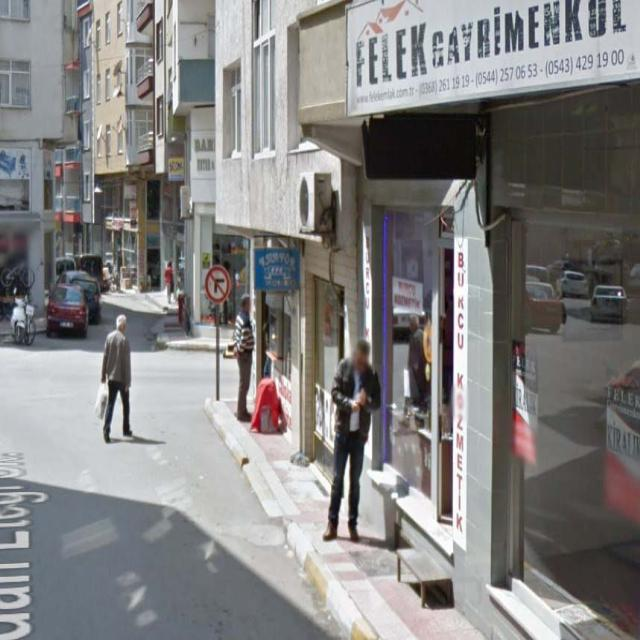sagadonulmez: (206, 265, 230, 301)
